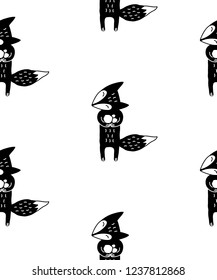animal: (84, 79, 163, 155), (87, 206, 135, 259)
